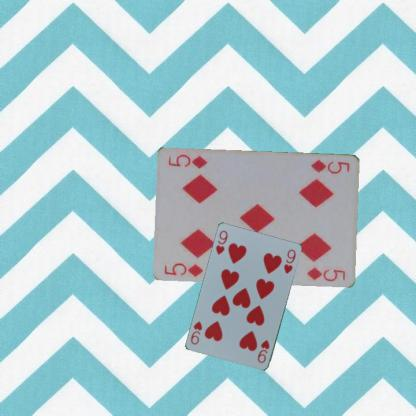5d: (308, 157, 350, 175), (162, 260, 204, 278)
9h: (213, 228, 229, 256), (255, 338, 271, 364)
